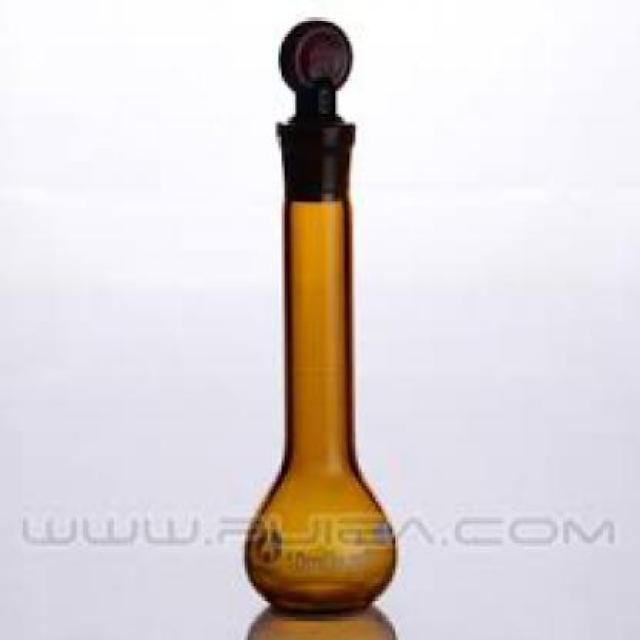kaca: (245, 20, 392, 611)
